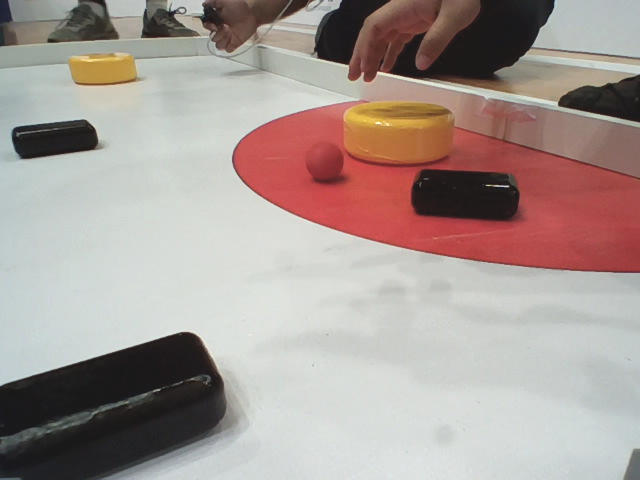black: (1, 330, 230, 476), (410, 167, 519, 217), (12, 118, 102, 160)
red: (308, 140, 344, 178)
yellow: (336, 100, 457, 167), (68, 52, 142, 82)
